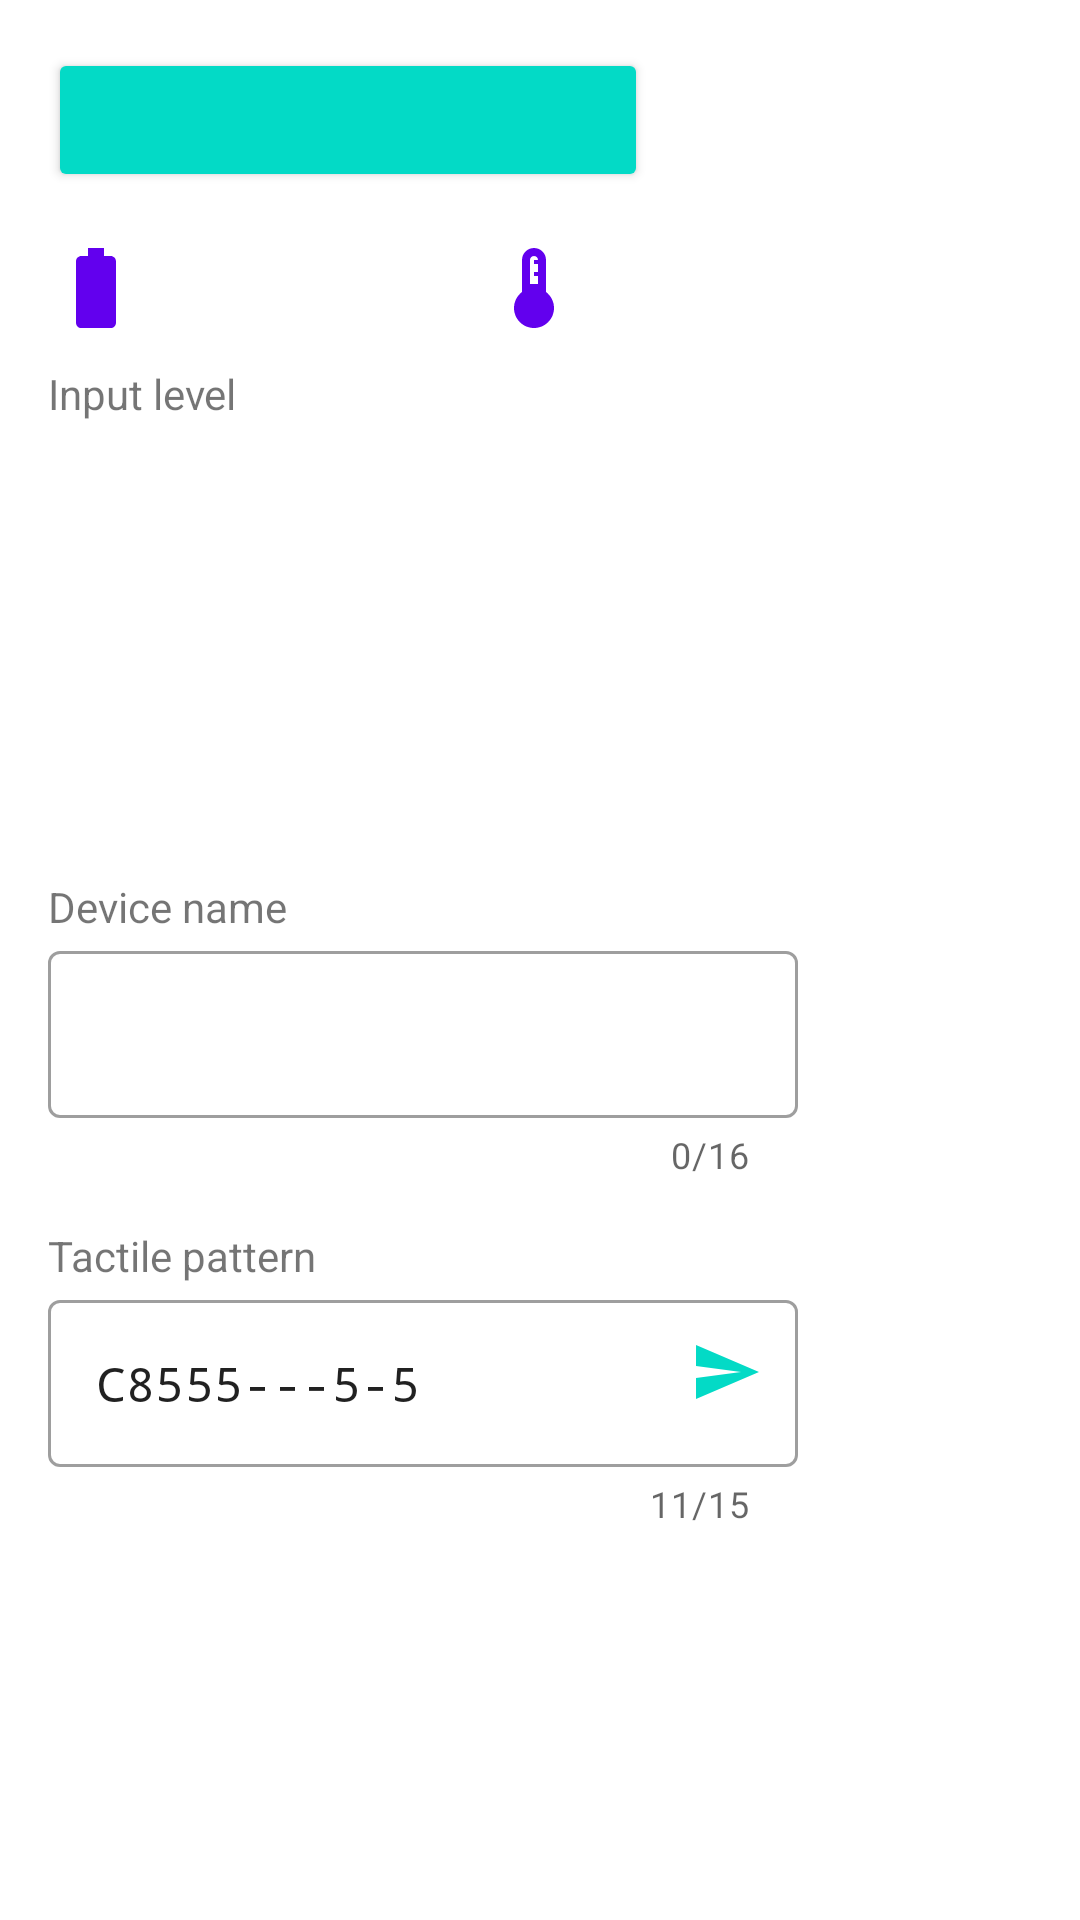

Screen size 1080×1920. Icon name, then its box in pixels as (x1, y1, x2, y2):
battery full: (76, 248, 116, 328)
thermostat: (514, 248, 554, 328)
